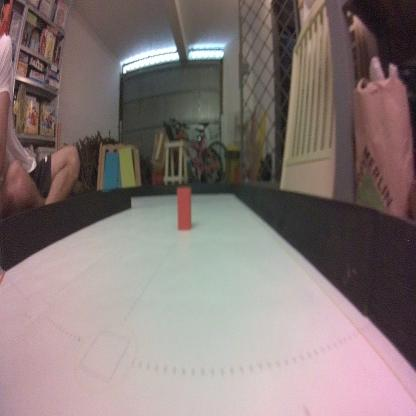red: (174, 185, 194, 233)
